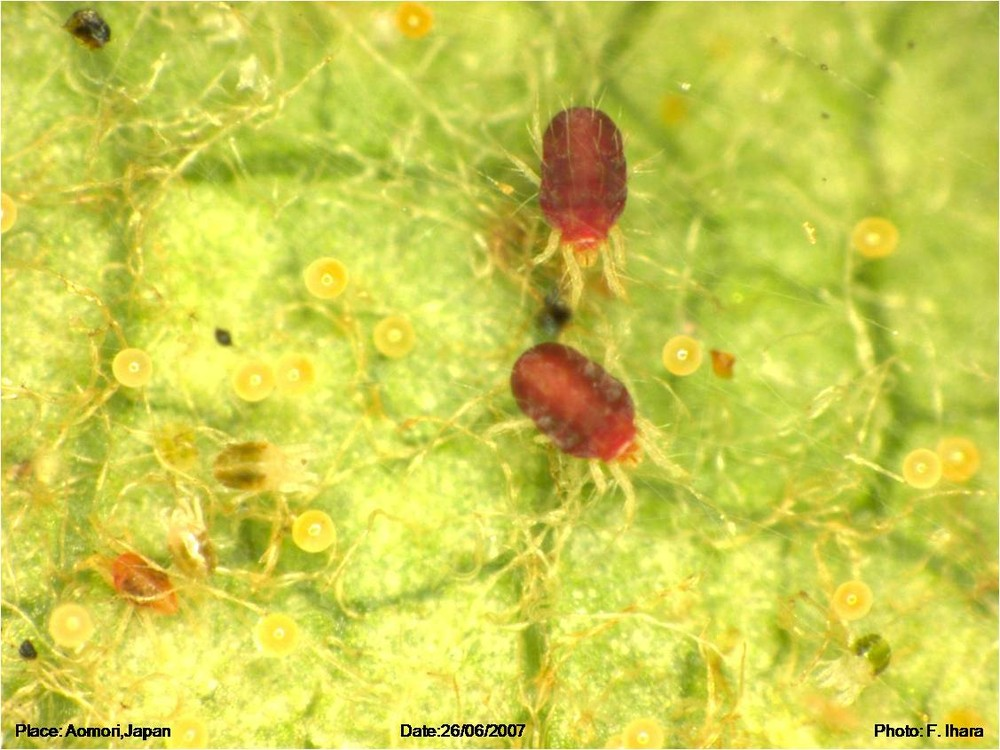Aracnido Rojo: (467, 91, 665, 310), (478, 338, 705, 492)
